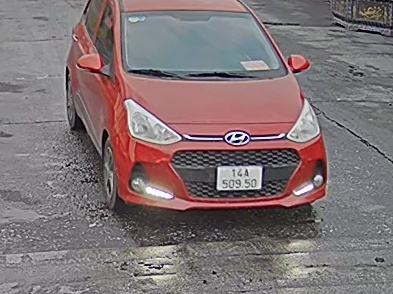vehicle plate: (209, 161, 262, 192)
